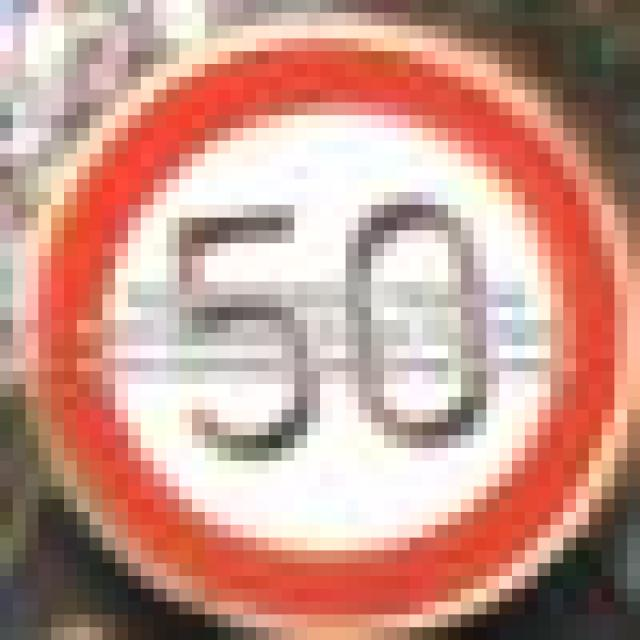speed_limit_30: (26, 26, 602, 602)
